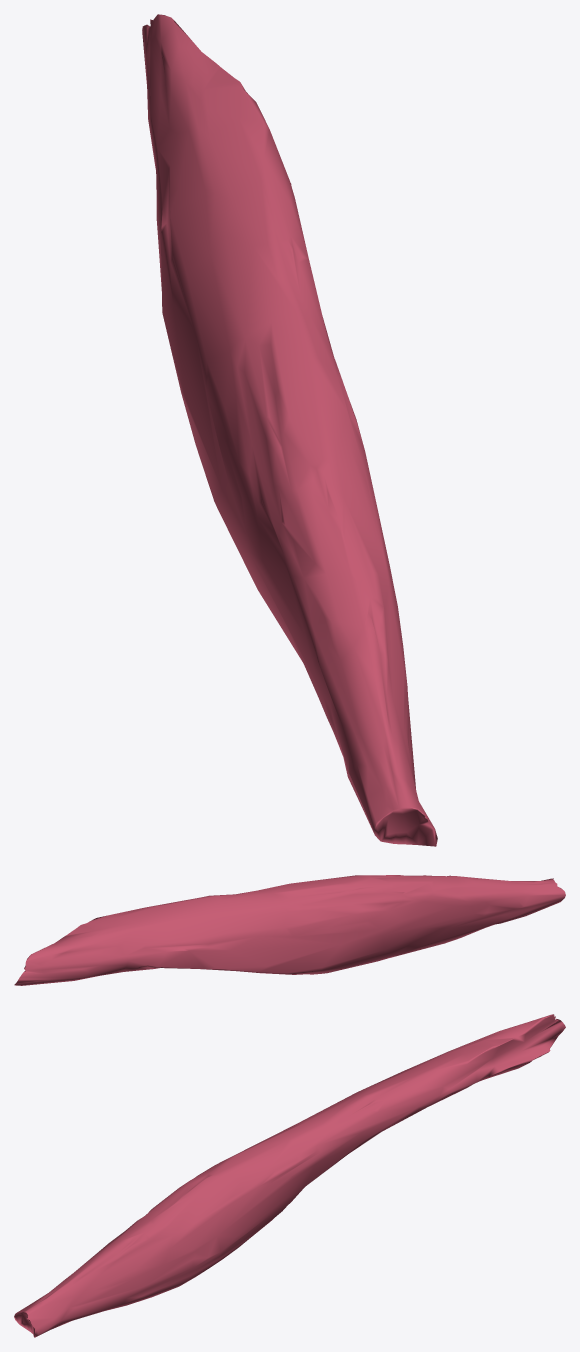
3 renders of one model, top to bottom at view 1: azimuth 30°, elevation 25°; view 2: azimuth 150°, elevation 25°; view 3: azimuth 330°, elevation 25°, orthographic. The views are drawn at different scales.
Parts seen in each view (by area): view 1: 左侧喙肱肌; view 2: 左侧喙肱肌; view 3: 左侧喙肱肌.
Boxes of the visible parts, x1,y1,x2,y2 form: 左侧喙肱肌: (142, 14, 437, 846); 左侧喙肱肌: (14, 875, 565, 985); 左侧喙肱肌: (14, 1014, 565, 1337).
Bounding box in the file's own units: 0.0896 × 0.0516 × 0.2339.
